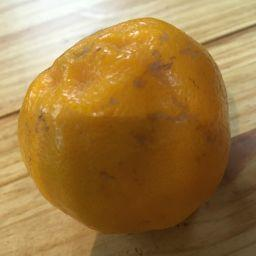Ripe: (20, 18, 232, 233)
